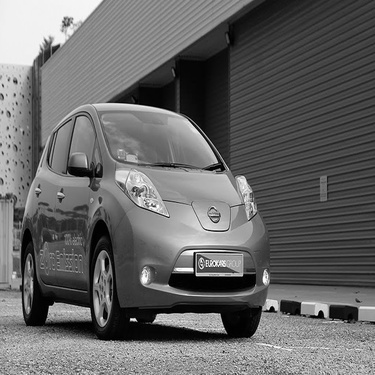car: (6, 97, 272, 343)
